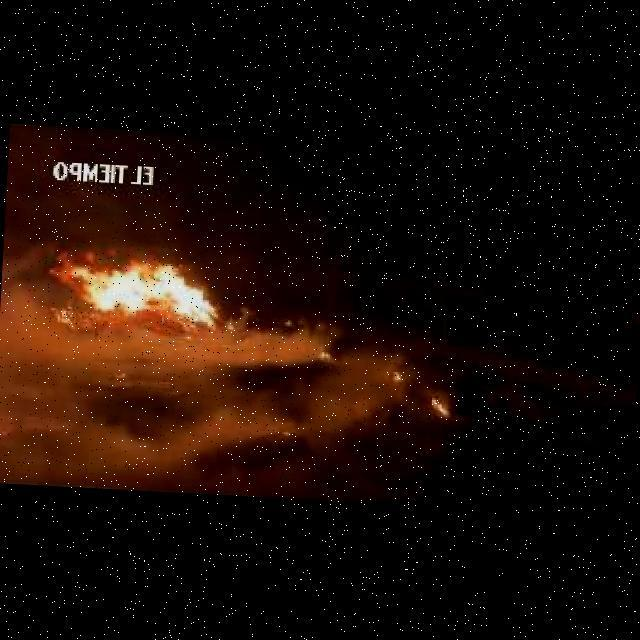Fire: (47, 246, 231, 337), (431, 398, 450, 417), (393, 366, 406, 383), (321, 348, 331, 357), (286, 321, 294, 327), (230, 324, 236, 330)
Smoke: (34, 365, 335, 504)
